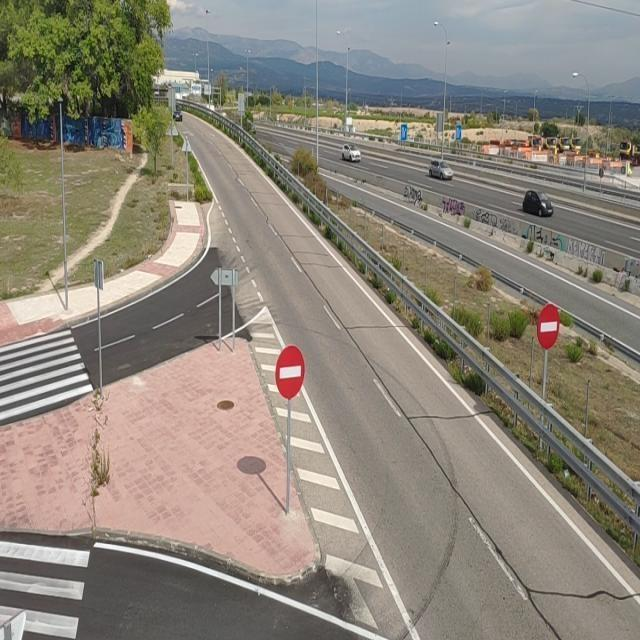Car: (525, 191, 553, 216), (432, 160, 452, 180), (343, 144, 360, 162), (173, 112, 183, 121)
